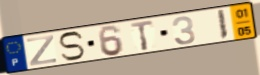3: (171, 15, 197, 46)
6: (97, 24, 126, 58)
I: (216, 8, 230, 41)
S: (57, 30, 86, 62)
T: (129, 19, 156, 52)
Z: (26, 34, 59, 67)
